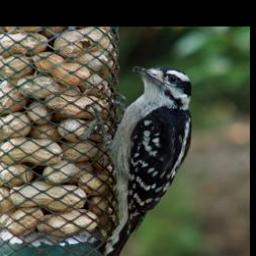Woodpecker: (82, 62, 206, 256)
